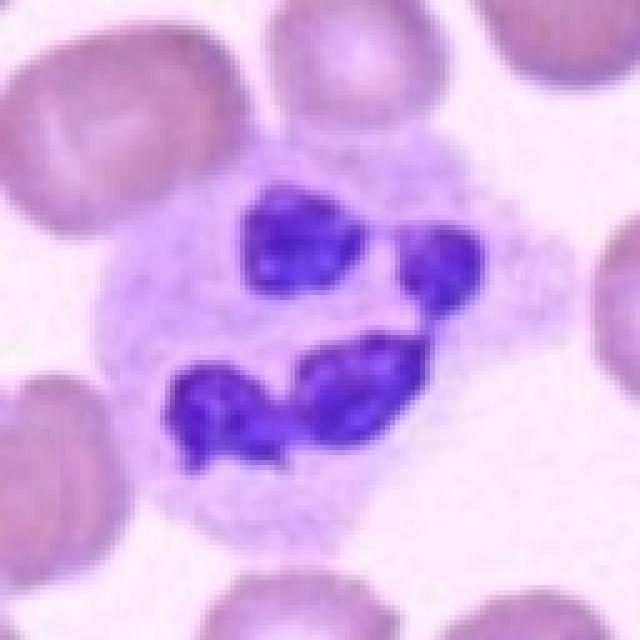neutro: (82, 124, 538, 513)
